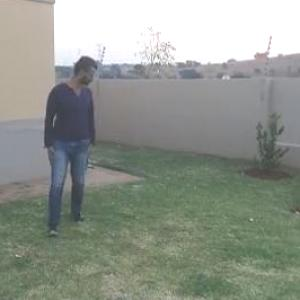follow: (35, 48, 100, 241)
